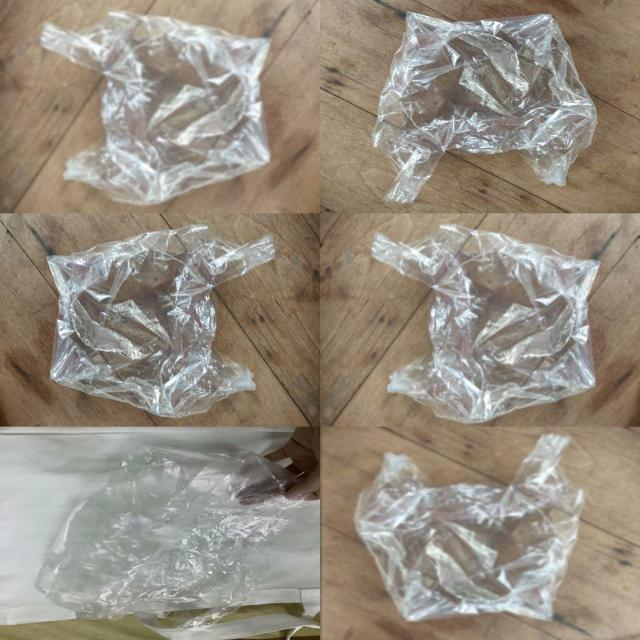Single-layer Plastic: (35, 446, 303, 618), (372, 225, 599, 423), (40, 11, 270, 205), (48, 225, 275, 417), (373, 12, 597, 203), (355, 434, 583, 621)
